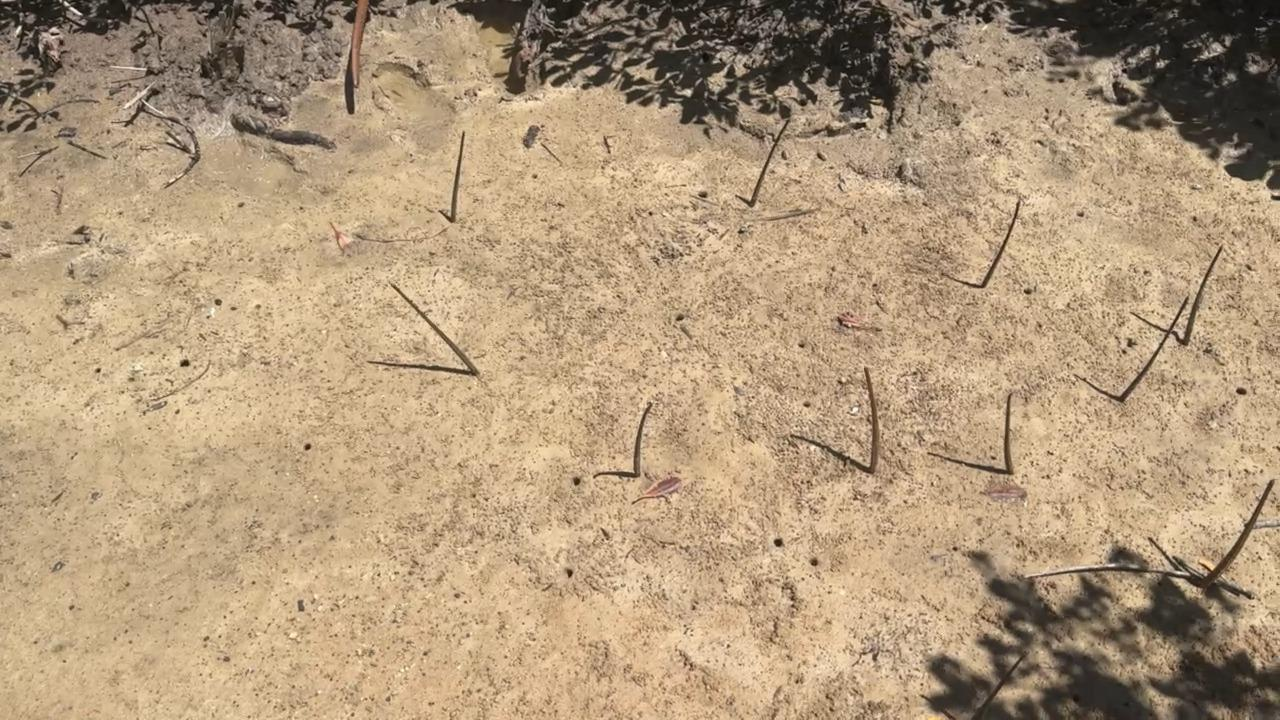Tree: (1198, 482, 1274, 589), (391, 284, 478, 376), (1120, 297, 1190, 402), (1185, 244, 1226, 343), (980, 201, 1022, 288), (749, 120, 790, 207), (862, 365, 880, 472), (446, 128, 466, 224), (632, 404, 652, 474), (1003, 393, 1014, 473)
